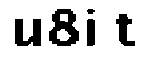8: (46, 4, 81, 50)
i: (83, 7, 100, 50)
t: (112, 11, 138, 50)
u: (12, 14, 44, 52)
